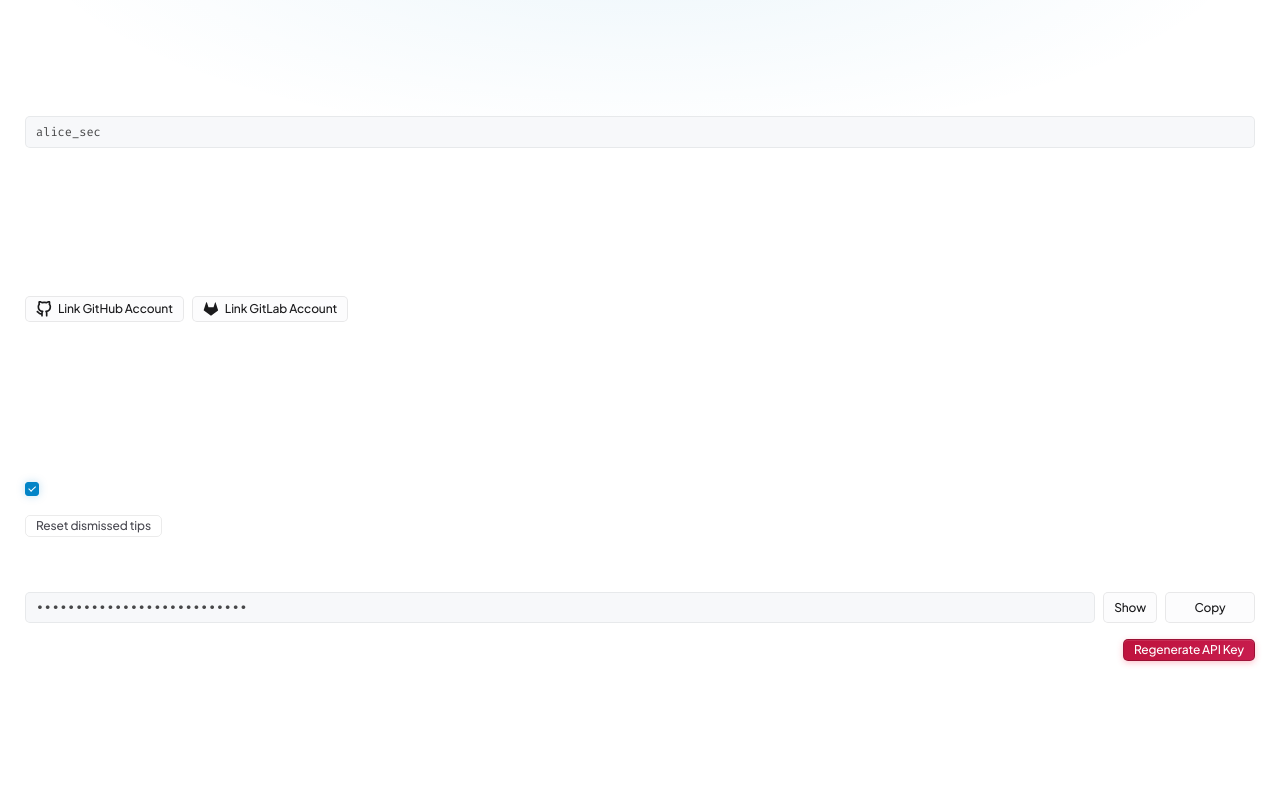
Test: AccountTab Component › handles API key regeneration flow
Click the button "Regenerate API Key": {"x": 1189, "y": 650} [1123,639,1255,661]
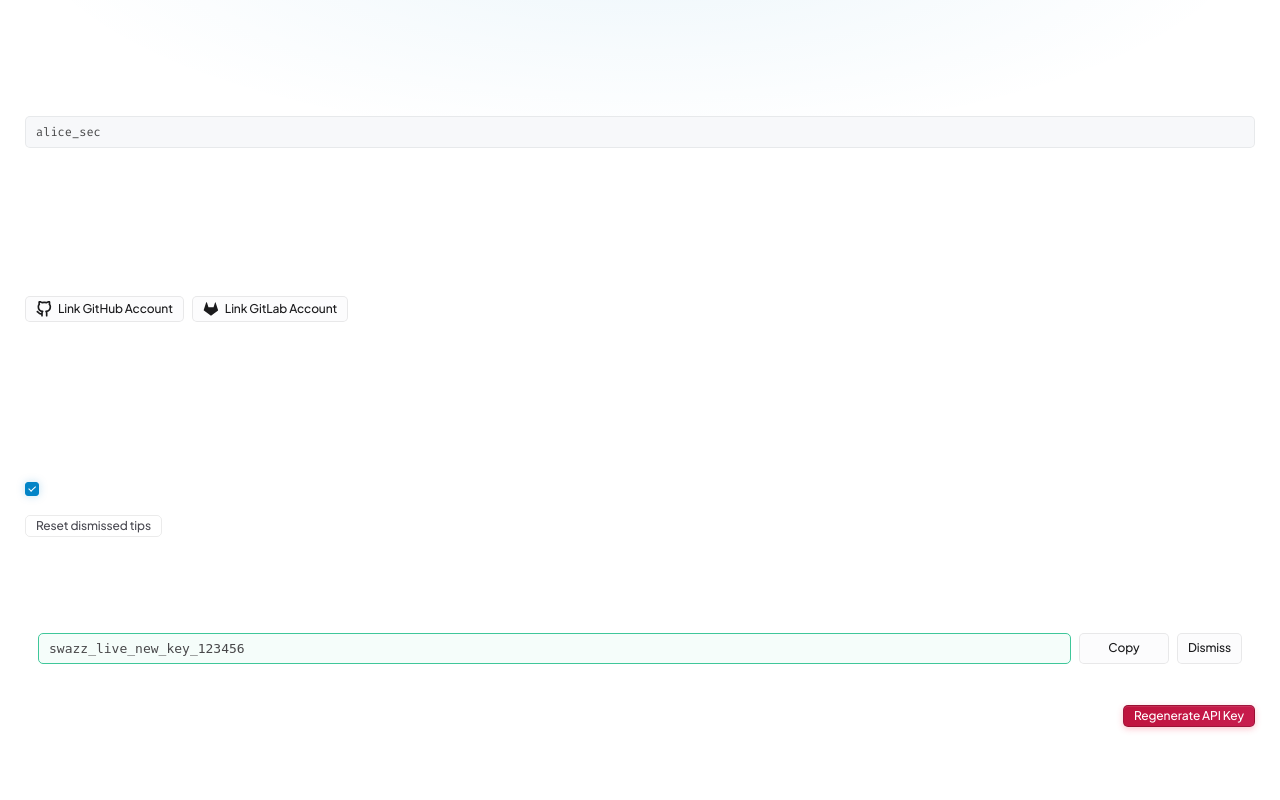
Now the field showing "swazz_live_new_key_123456" below "Please copy your new API key now." is shown, box [38,632,1071,664]
Click the button "Dismiss": {"x": 1209, "y": 648} [1177,632,1242,664]
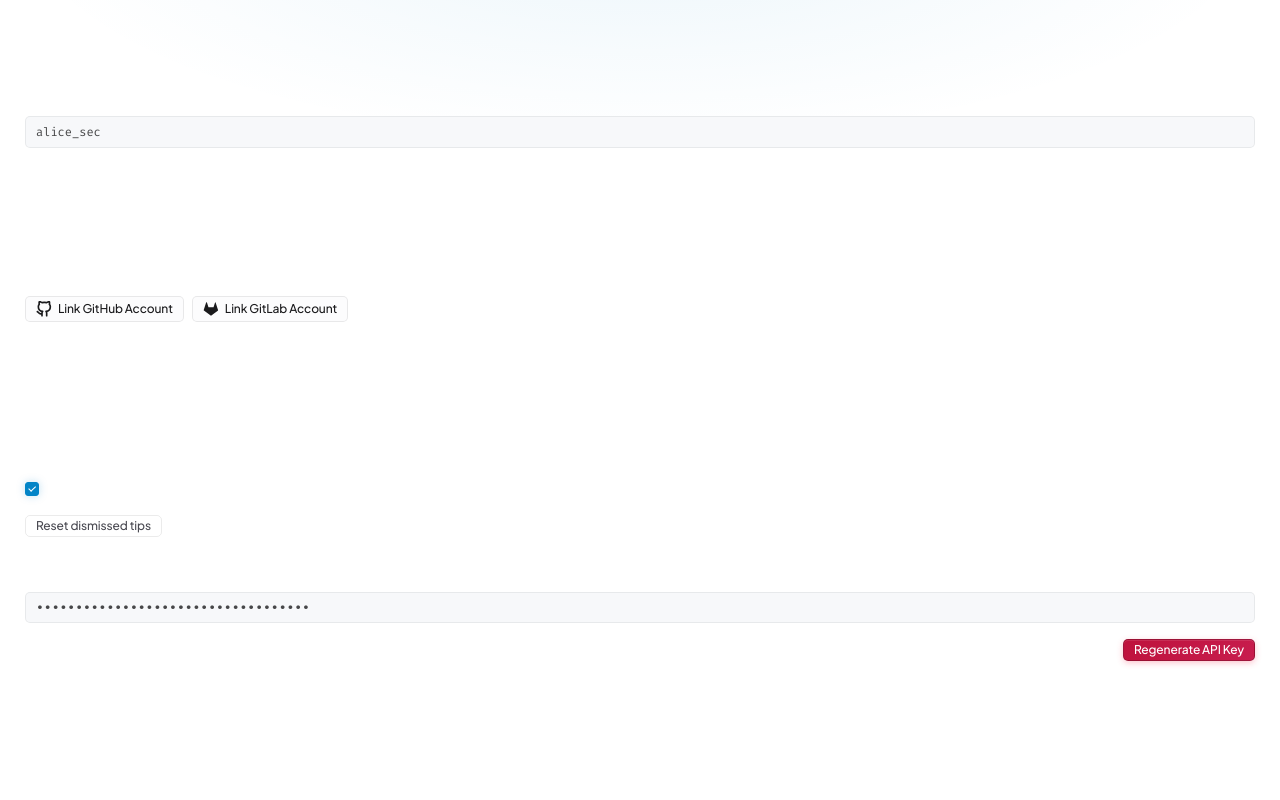
Now the text "Please copy your new API key now" is gone
